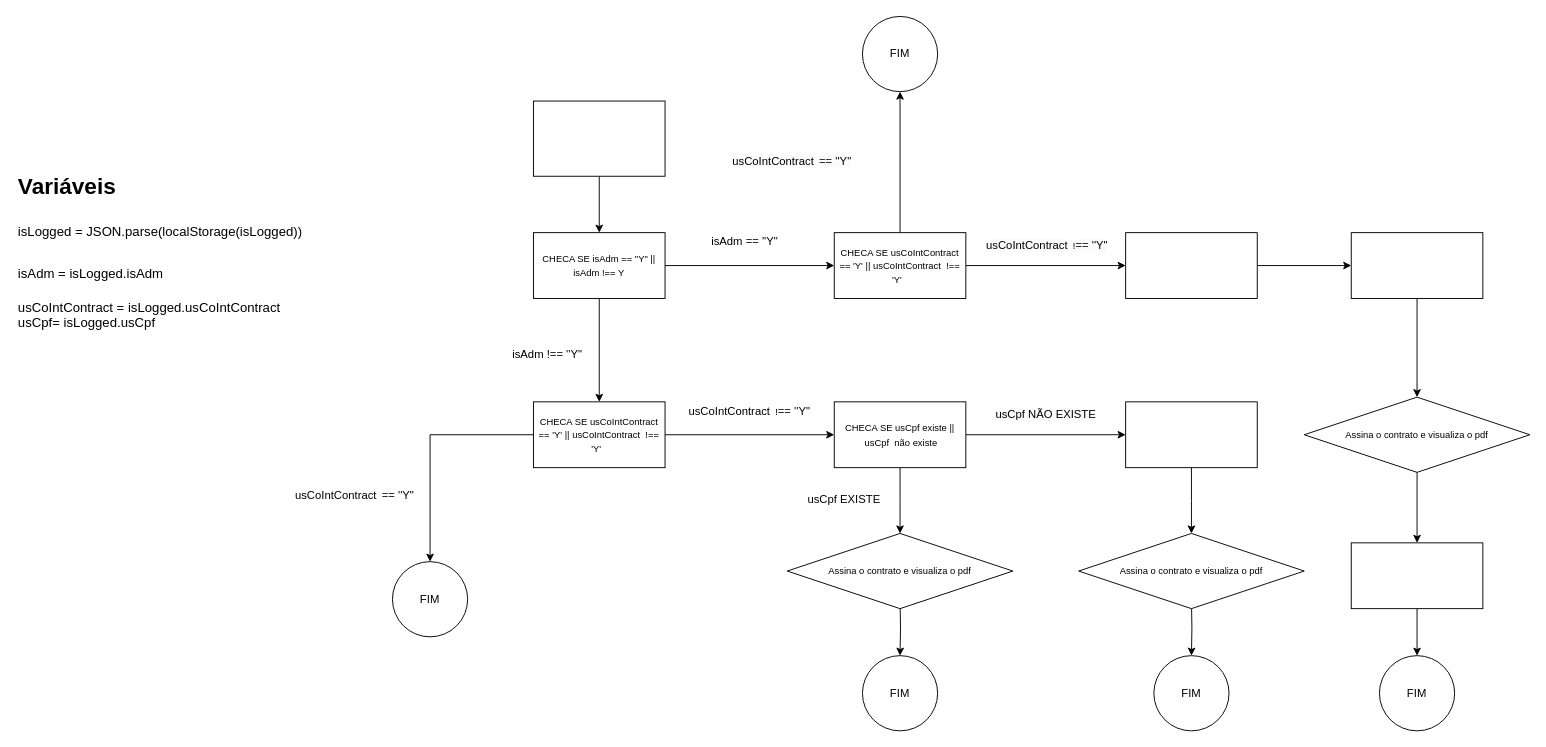
The diagram is 1546 pixels wide and 747 high, and some of its shapes have lost their labels. The shapes that lost their labels are listed below. From the top down, each one's centre as x and y in pixels, then its label:
At (x=599, y=138): "INICIO DE COMPRA NO CARRINHO".
At (x=1191, y=265): "Envia contrato por e-mail".
At (x=1416, y=265): "Responsável recebe e-mail com o token".
At (x=1191, y=434): "Chama componente de inserção do CPF".
At (x=1416, y=575): "Monitor (ADM) recebe email de confirmação da assinatura do contrato".
